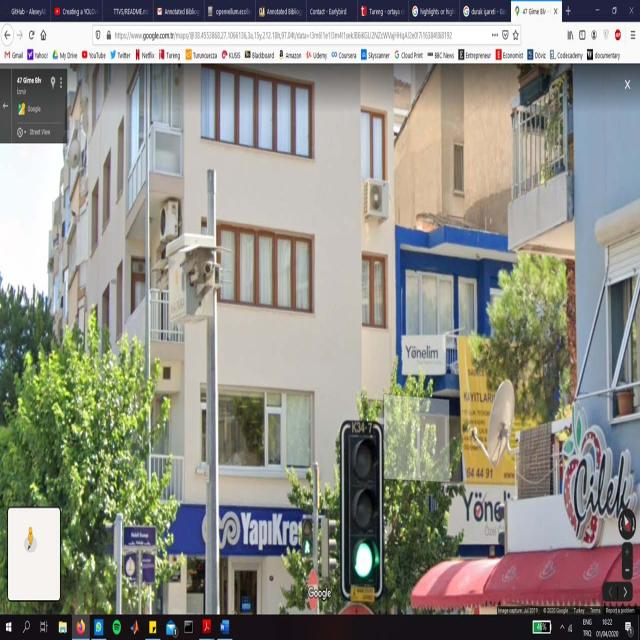yesil: (346, 424, 380, 595)
